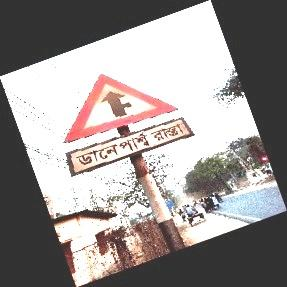Side-road-right: (62, 73, 191, 177)
